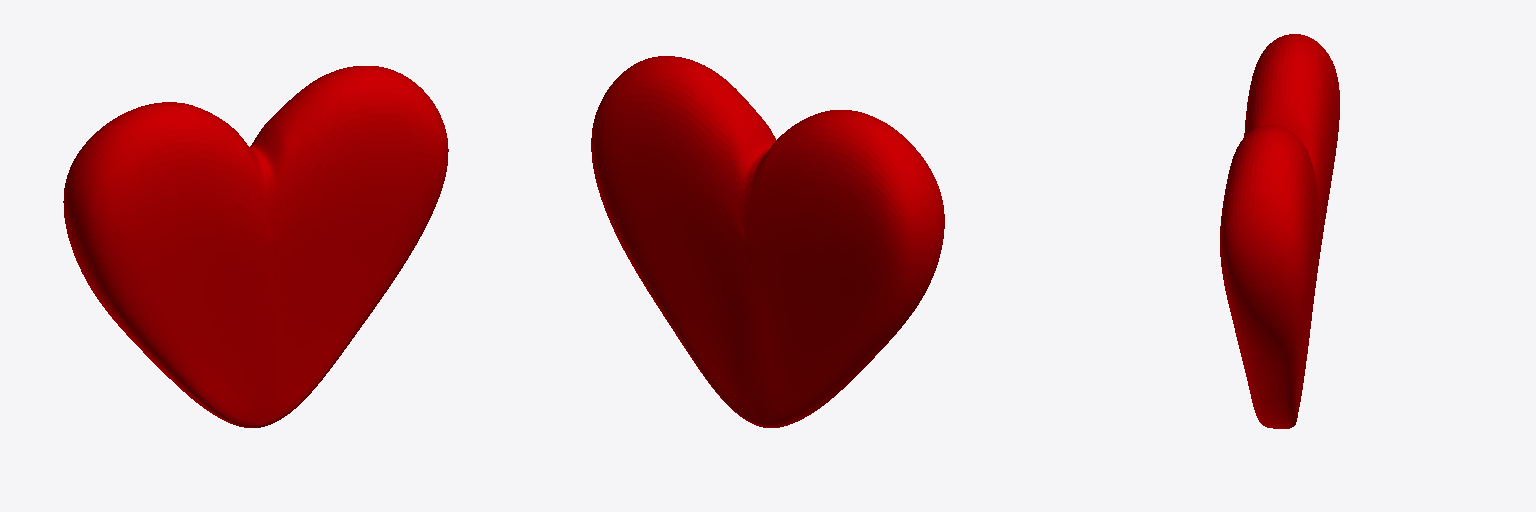
Rendered from heart.obj.
3 views of the same model, side by side, from view 1: azimuth 30°, elevation 25°; view 2: azimuth 150°, elevation 25°; view 3: azimuth 270°, elevation 25° (orthographic).
Parts seen in each view (by area): view 1: heart_Cube; view 2: heart_Cube; view 3: heart_Cube.
Boxes of the visible parts, <box> form: heart_Cube: <box>63,66,448,427</box>; heart_Cube: <box>591,56,944,427</box>; heart_Cube: <box>1220,34,1339,428</box>.
Size of the model in its own units: 2.61 by 2.37 by 0.7699.